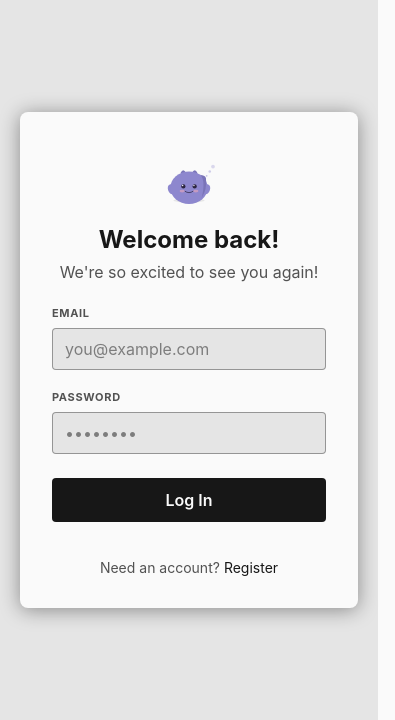
Test case: Auth — register › shows the changeset error and stays on the form when registration fails
Click the button "Register": (251, 568) [224,559,278,576]
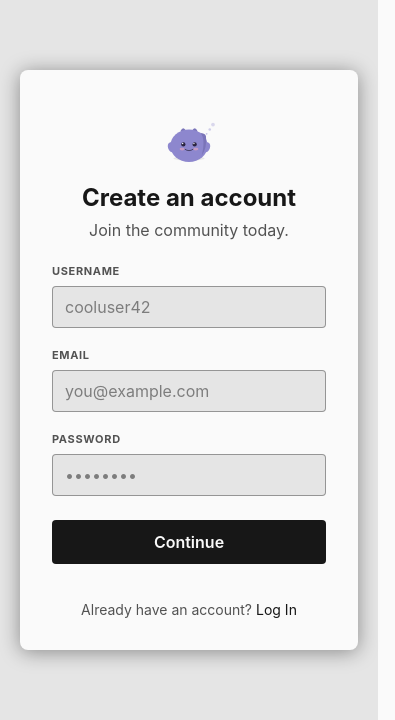
In the field labelled "Username": (189, 307) [52,286,326,328], type "newperson"
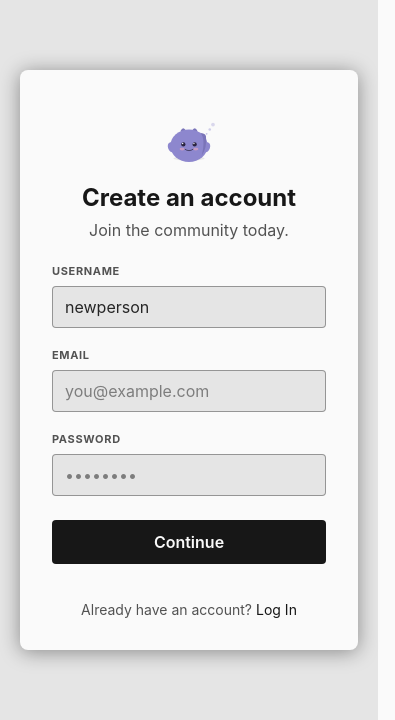
In the field labelled "Email": (189, 391) [52,370,326,412], type "taken@example.com"
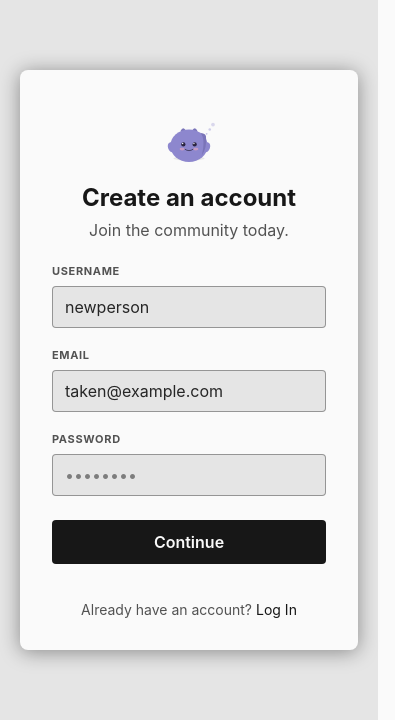
In the password field labelled "Password": (189, 475) [52,454,326,496], type "password123"
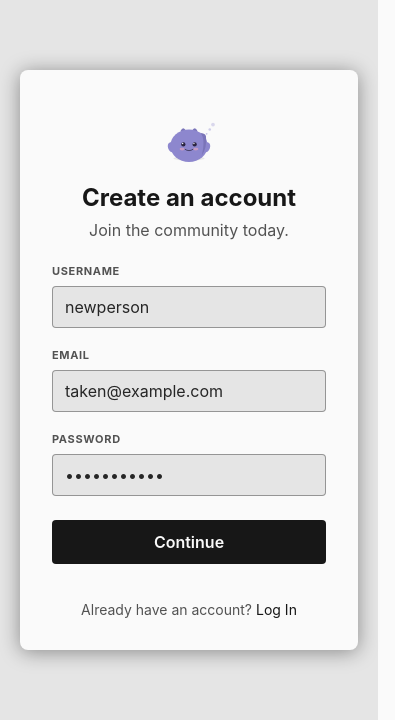
Click the submit button: (189, 542) [52,520,326,564]
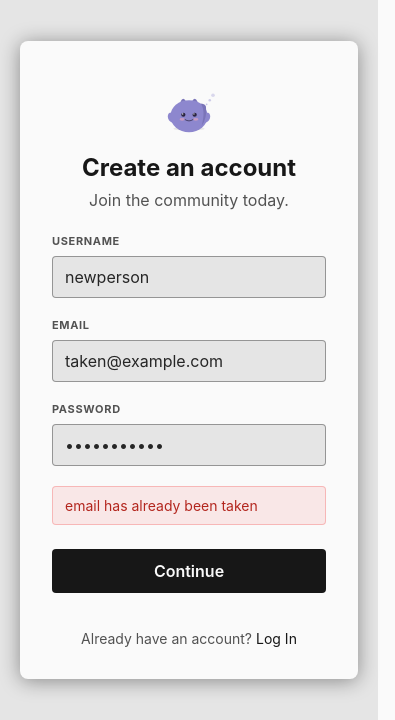
Now the text "email has already been taken" is shown, box [52,486,326,526]
